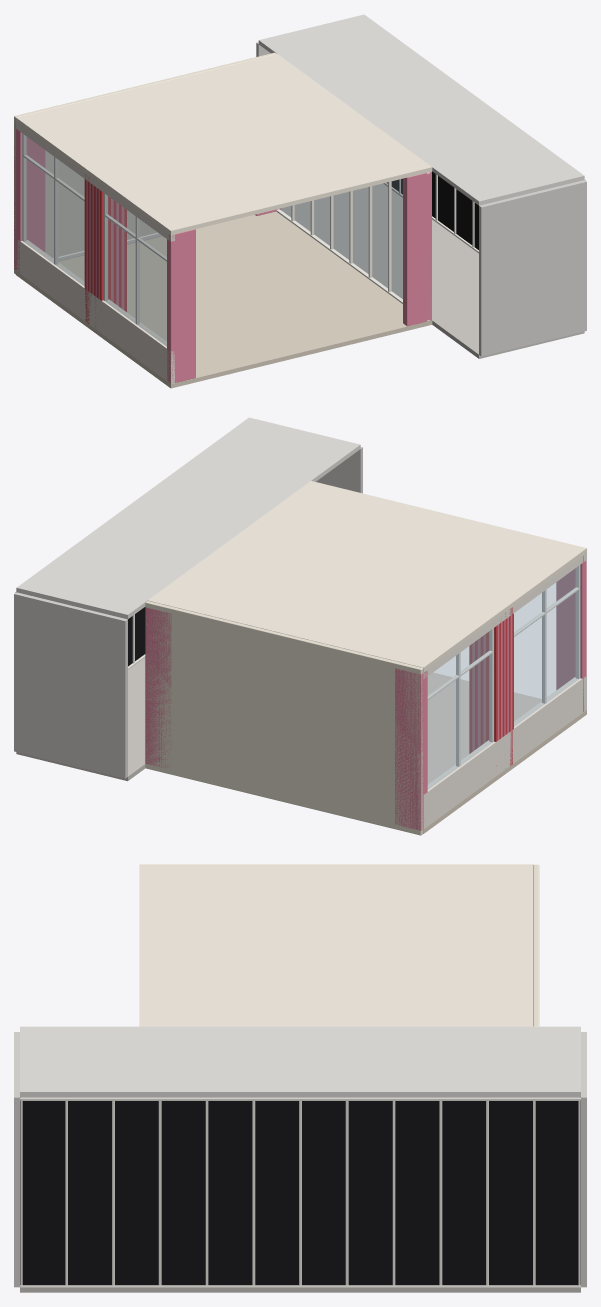
The model's file is room_shell.glb.
3 views of the same model, one above another, from view 1: azimuth 30°, elevation 25°; view 2: azimuth 150°, elevation 25°; view 3: azimuth 270°, elevation 25° (orthographic). The views are drawn at different scales.
Visible parts, largest first — view 1: Ceiling.001, Floor.001, CorrCeil.001, CorrEndFront.001, CorrFloor.001, Glass_F.001, Glass_B.001, RGlass.001, LWall_Low.001, WallBack.001, RPier.001, LPier.001 (+8 smaller); view 2: Ceiling.001, WallBack.001, CorrCeil.001, CorrEndBack.001, Glass_F.001, Glass_B.001, LWall_Low.001, LPierBack.001, Floor.001, RPierBack.001, LPier.001, CorrFloor.001 (+7 smaller); view 3: CorrGlass.001, Ceiling.001, CorrCeil.001, CorrFloor.001, CorrGlassTop.001, CorrGlassBottom.001, CorrEndBack.001, CorrEndFront.001, WallBack.001, CorrSash3.001, CorrSash4.001, CorrSash5.001 (+10 smaller).
Boxes of the visible parts, left/top/right/bottom form: Ceiling.001: left=16, top=54, right=432, bottom=234; Floor.001: left=16, top=211, right=432, bottom=388; CorrCeil.001: left=258, top=14, right=584, bottom=205; CorrEndFront.001: left=479, top=180, right=586, bottom=356; CorrFloor.001: left=281, top=183, right=584, bottom=358; Glass_F.001: left=103, top=193, right=166, bottom=346; Glass_B.001: left=22, top=133, right=84, bottom=285; RGlass.001: left=280, top=179, right=402, bottom=298; LWall_Low.001: left=16, top=240, right=174, bottom=384; WallBack.001: left=14, top=52, right=276, bottom=274; RPier.001: left=403, top=171, right=431, bottom=326; LPier.001: left=167, top=229, right=195, bottom=383; Ceiling.001: left=147, top=481, right=586, bottom=671; WallBack.001: left=145, top=601, right=423, bottom=835; CorrCeil.001: left=16, top=417, right=360, bottom=619; CorrEndBack.001: left=14, top=592, right=127, bottom=778; Glass_F.001: left=514, top=565, right=580, bottom=726; Glass_B.001: left=428, top=628, right=493, bottom=789; LWall_Low.001: left=423, top=675, right=586, bottom=829; LPierBack.001: left=395, top=668, right=427, bottom=830; Floor.001: left=423, top=672, right=586, bottom=833; RPierBack.001: left=145, top=607, right=171, bottom=768; LPier.001: left=556, top=556, right=586, bottom=711; CorrFloor.001: left=16, top=657, right=145, bottom=781; CorrGlass.001: left=20, top=1101, right=580, bottom=1285; Ceiling.001: left=139, top=864, right=533, bottom=1026; CorrCeil.001: left=20, top=1026, right=580, bottom=1097; CorrFloor.001: left=20, top=1288, right=580, bottom=1292; CorrGlassTop.001: left=20, top=1097, right=580, bottom=1100; CorrGlassBottom.001: left=20, top=1285, right=580, bottom=1287; CorrEndBack.001: left=581, top=1032, right=586, bottom=1287; CorrEndFront.001: left=14, top=1032, right=19, bottom=1287; WallBack.001: left=533, top=864, right=539, bottom=1026; CorrSash3.001: left=158, top=1101, right=161, bottom=1285; CorrSash4.001: left=205, top=1101, right=208, bottom=1285; CorrSash5.001: left=252, top=1101, right=255, bottom=1285.
Bounding box in the file's own units: 22.69 × 9.27 × 24.02.
